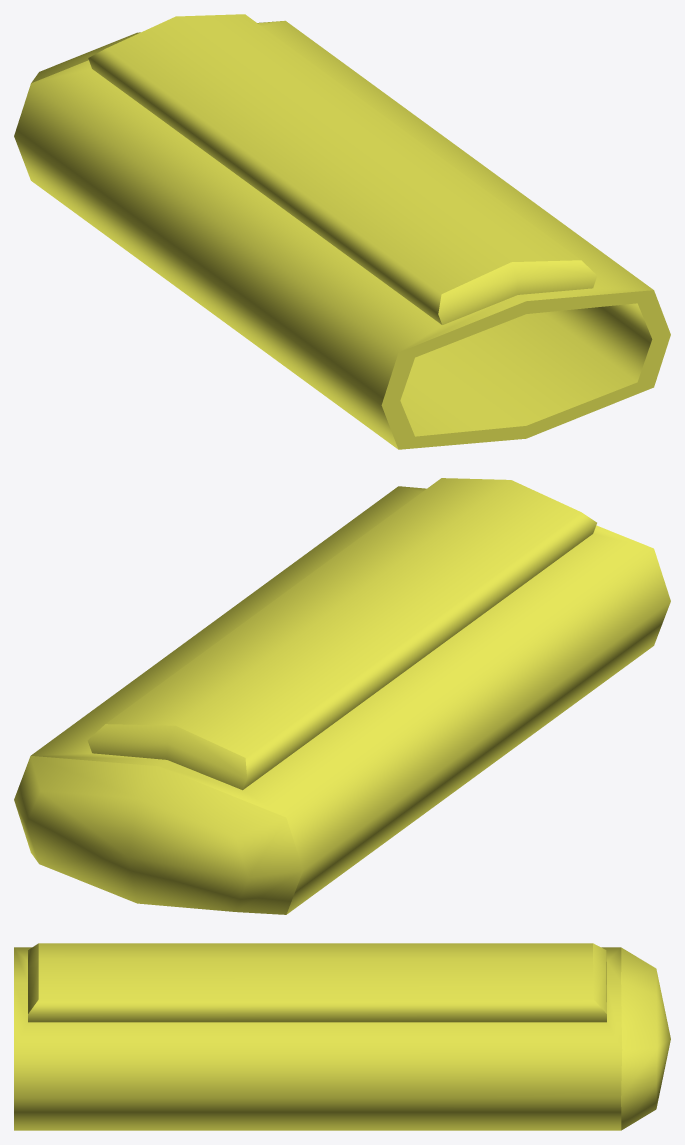
Rendered from Tapita R.fbx.
3 renders of one model, top to bottom at view 1: azimuth 30°, elevation 25°; view 2: azimuth 150°, elevation 25°; view 3: azimuth 270°, elevation 25°, orthographic. The views are drawn at different scales.
Parts seen in each view (by area): view 1: Tapita_R; view 2: Tapita_R; view 3: Tapita_R.
Part boxes in pixels (x1,y1,x2,y2): Tapita_R: (14,14,670,449); Tapita_R: (14,478,670,914); Tapita_R: (14,943,670,1130).
Size of the model in its own units: 0.0412 by 0.0225 by 0.098.
